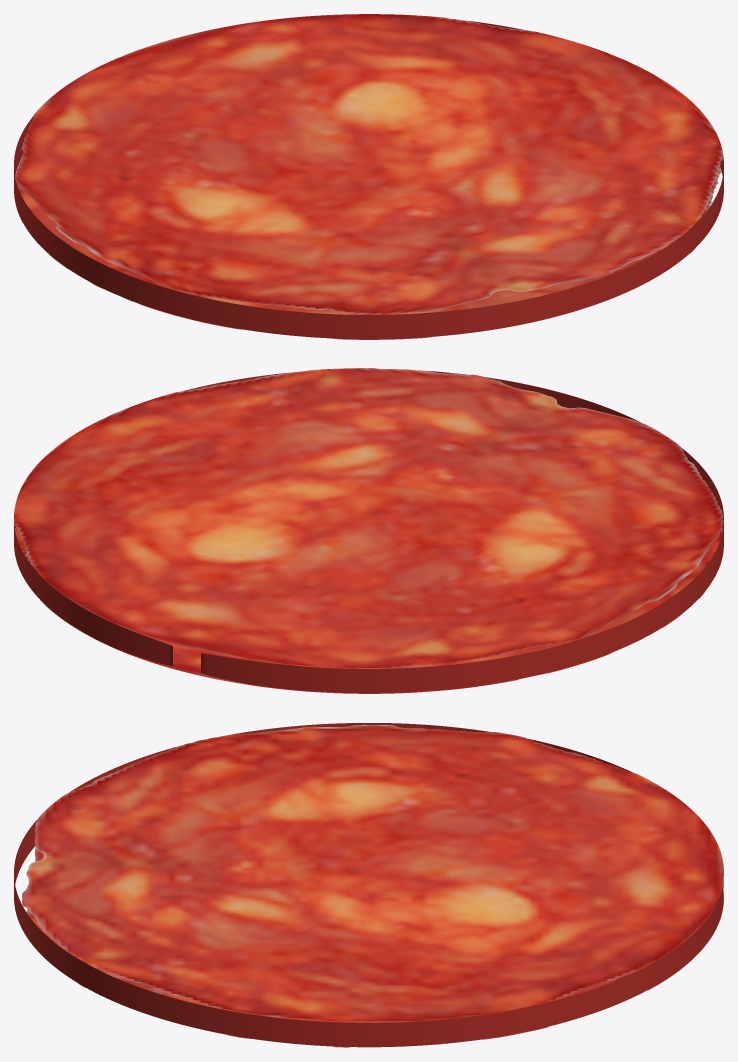
The model's file is pepperoni.fbx.
3 renders of one model, top to bottom at view 1: azimuth 30°, elevation 25°; view 2: azimuth 150°, elevation 25°; view 3: azimuth 270°, elevation 25°, orthographic.
Visible parts, largest first — view 1: Cylinder; view 2: Cylinder; view 3: Cylinder.
Part boxes in pixels (bbox=[...]): Cylinder: bbox=[14, 14, 723, 339]; Cylinder: bbox=[14, 368, 723, 693]; Cylinder: bbox=[14, 723, 723, 1047].
Bounding box in the file's own units: 200 × 8 × 200.
